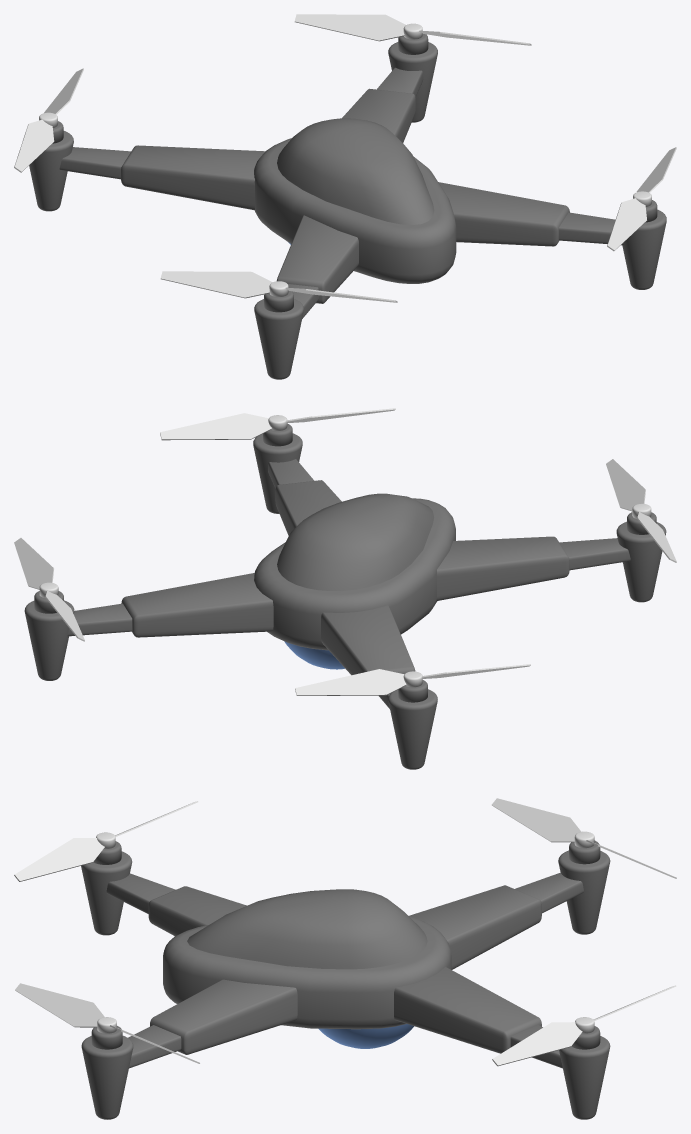
Rendered from worker_drone.gltf.
3 views of the same model, one above another, from view 1: azimuth 30°, elevation 25°; view 2: azimuth 150°, elevation 25°; view 3: azimuth 270°, elevation 25° (orthographic). The views are drawn at different scales.
Visible parts, largest first — view 1: body, arm_front_left, arm_rear_right, arm_rear_left, arm_front_right, propeller_front_right, propeller_rear_left, propeller_rear_right, propeller_front_left; view 2: body, arm_front_right, arm_rear_left, arm_front_left, arm_rear_right, propeller_front_left, propeller_rear_right, propeller_rear_left, propeller_front_right, generator; view 3: body, arm_rear_right, arm_front_right, arm_front_left, arm_rear_left, propeller_front_left, propeller_rear_right, propeller_front_right, propeller_rear_left, generator.
Part boxes in pixels (x1,y1,x2,y2): body: (254,118,456,283); arm_front_left: (29,121,265,211); arm_rear_right: (438,182,666,289); arm_rear_left: (254,215,358,379); arm_front_right: (342,34,437,142); propeller_front_right: (294,14,531,45); propeller_rear_left: (160,271,397,302); propeller_rear_right: (607,147,676,251); propeller_front_left: (14,68,83,172); body: (254,493,455,650); arm_front_right: (24,573,273,680); arm_rear_left: (436,512,666,602); arm_front_left: (321,605,437,769); arm_rear_right: (253,423,341,535); propeller_front_left: (295,664,530,695); propeller_rear_right: (160,408,395,440); propeller_rear_left: (606,459,676,562); propeller_front_right: (14,538,84,641); generator: (284,641,344,669); body: (163,889,451,1029); arm_rear_right: (81,979,297,1119); arm_front_right: (394,967,610,1119); arm_front_left: (409,840,610,969); arm_rear_left: (81,841,246,935); propeller_front_left: (491,798,676,878); propeller_rear_right: (15,983,199,1063); propeller_front_right: (492,985,676,1066); propeller_rear_left: (14,801,198,881); generator: (318,1024,413,1048).
Size of the model in its own units: 3.42 by 0.8681 by 3.64.
